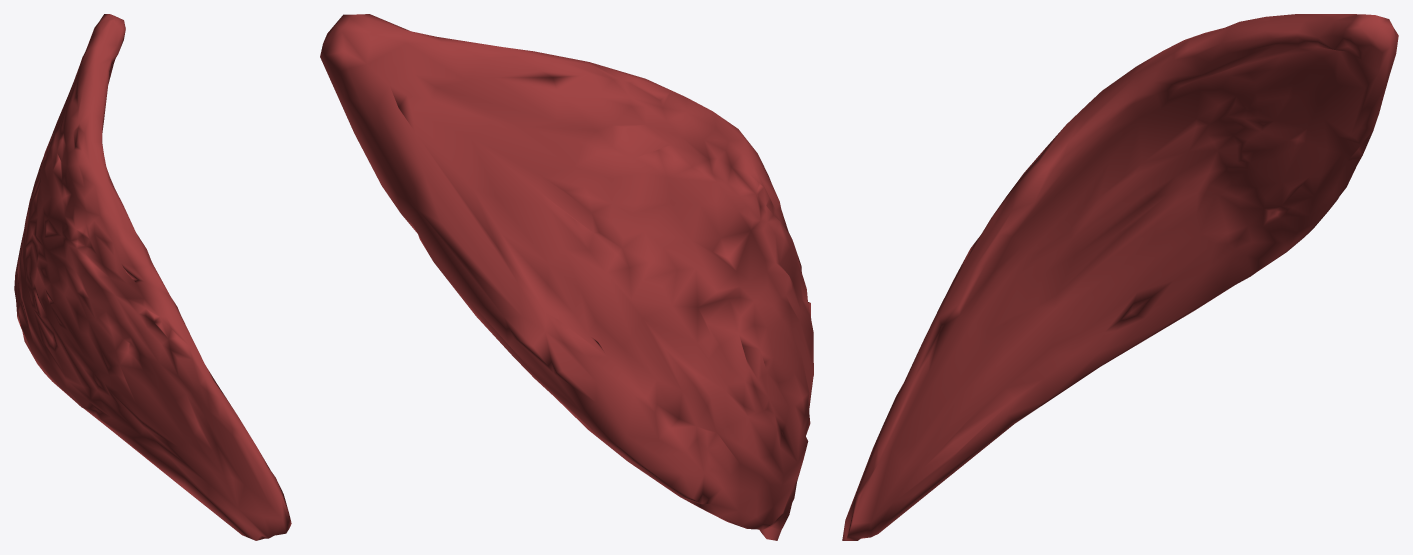
The model's file is lateral-crico-arytenoid-muscle-r.glb.
The picture shows the model from 3 angles, left to right: view 1: azimuth 30°, elevation 25°; view 2: azimuth 150°, elevation 25°; view 3: azimuth 270°, elevation 25°; orthographic projection. The views are drawn at different scales.
Parts seen in each view (by area): view 1: Lateral crico-arytenoid muscle.r; view 2: Lateral crico-arytenoid muscle.r; view 3: Lateral crico-arytenoid muscle.r.
Boxes of the visible parts, <box> form: Lateral crico-arytenoid muscle.r: <box>14,14,291,540</box>; Lateral crico-arytenoid muscle.r: <box>320,14,813,540</box>; Lateral crico-arytenoid muscle.r: <box>842,14,1398,540</box>.
Size of the model in its own units: 0.00444 by 0.0107 by 0.00994.
